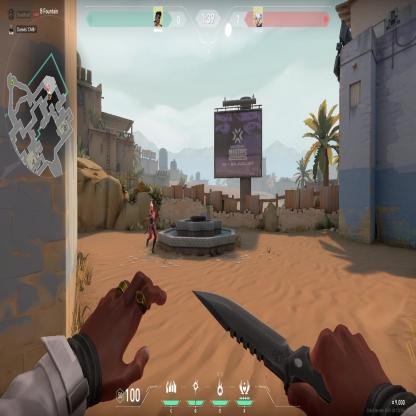enemy: (145, 202, 157, 255)
